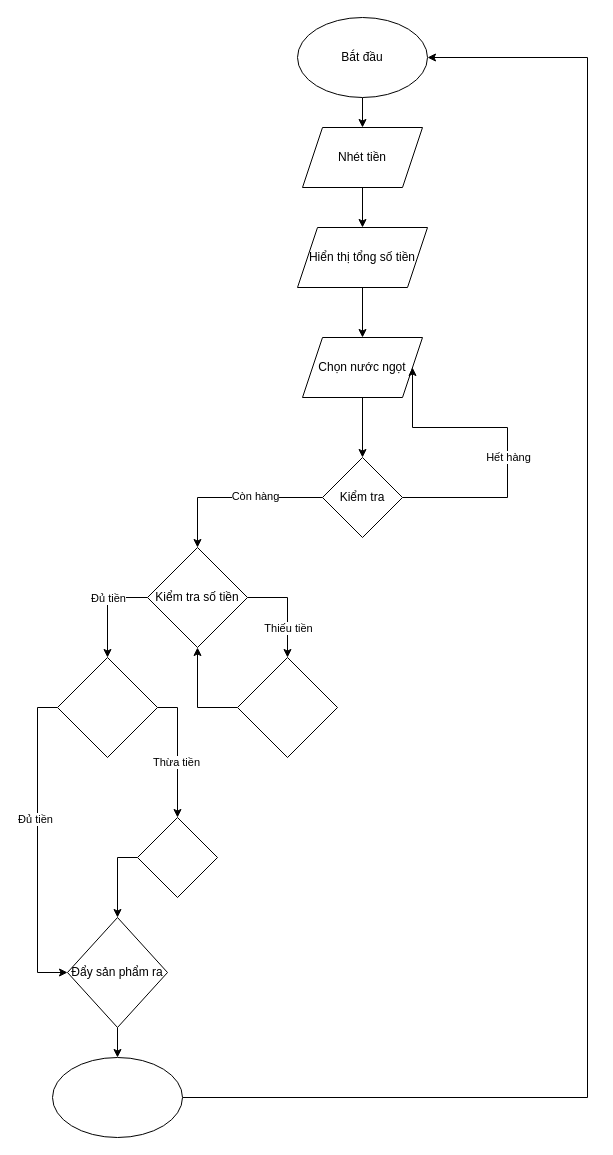
Image size: 613x1155. Some labels were removed from this diagram. The shapes that lost their labels are listed below. From the top down, each one's box as (x1, y1, x2, y2) in pixels, then its label:
(56, 656, 158, 758): Đưa sản phẩm
(236, 656, 338, 758): Yêu cầu đưa thêm tiền
(136, 816, 218, 898): Trả lại tiền
(52, 1056, 182, 1138): Kết thúc
